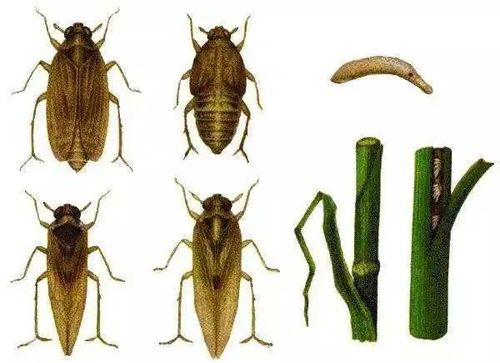Delphacidae: (152, 177, 281, 360), (10, 6, 142, 175), (8, 188, 125, 355), (173, 13, 263, 164)
